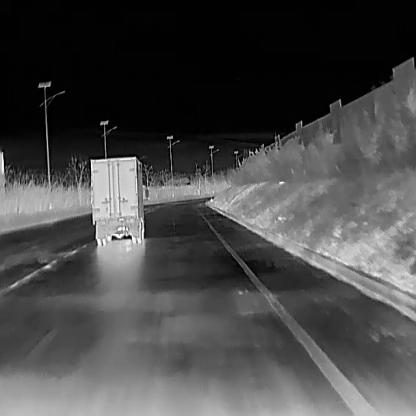truck: (90, 154, 148, 246)
